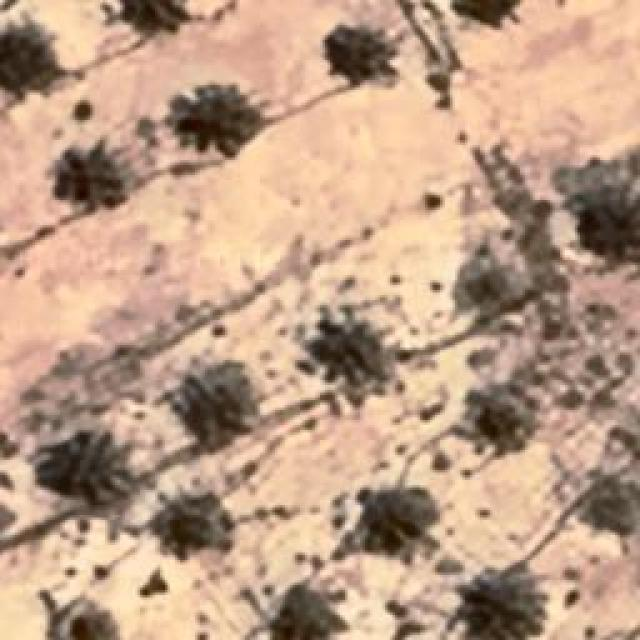PalmTree: (71, 18, 153, 465), (360, 481, 445, 559), (56, 142, 129, 225), (455, 572, 543, 638), (178, 367, 252, 445), (301, 322, 381, 390), (182, 91, 258, 154), (0, 20, 65, 90), (580, 474, 640, 540), (590, 184, 640, 256), (164, 496, 224, 556), (322, 24, 390, 74), (460, 255, 520, 305), (476, 388, 529, 442), (44, 605, 124, 640), (275, 592, 325, 640), (451, 0, 529, 27), (448, 0, 530, 20)
